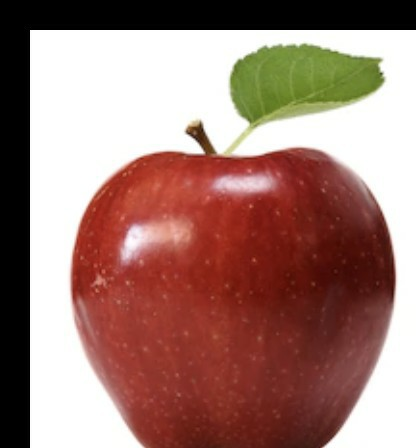fresh_apple: (72, 150, 397, 448)
